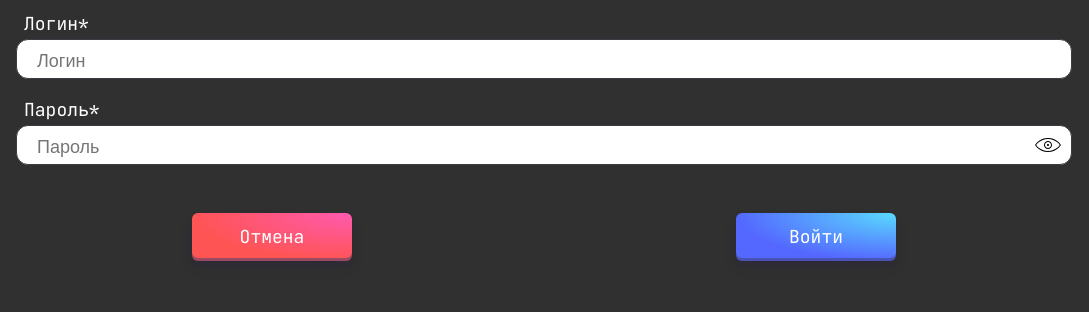
Test: AuthModal Login component tests › Login fail because password or name was incorrect
In the field with placeholder "Логин": (544, 59) [16,39,1072,79], type "Login"
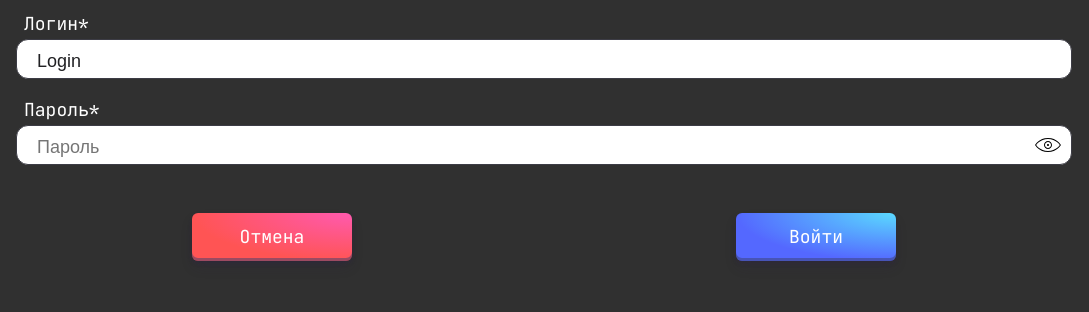
In the password field with placeholder "Пароль": (544, 145) [16,125,1072,165], type "password"
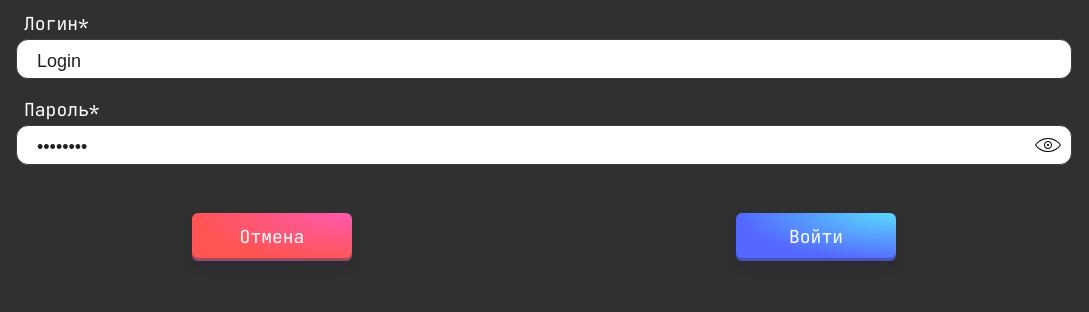
Click the button "Войти": (816, 237) [736,213,896,261]
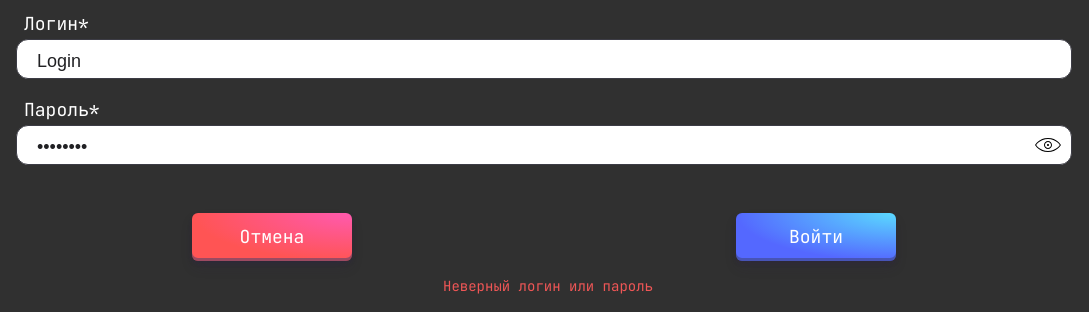
Result: the text "Неверный логин или пароль" is shown at [435,277,653,295]
